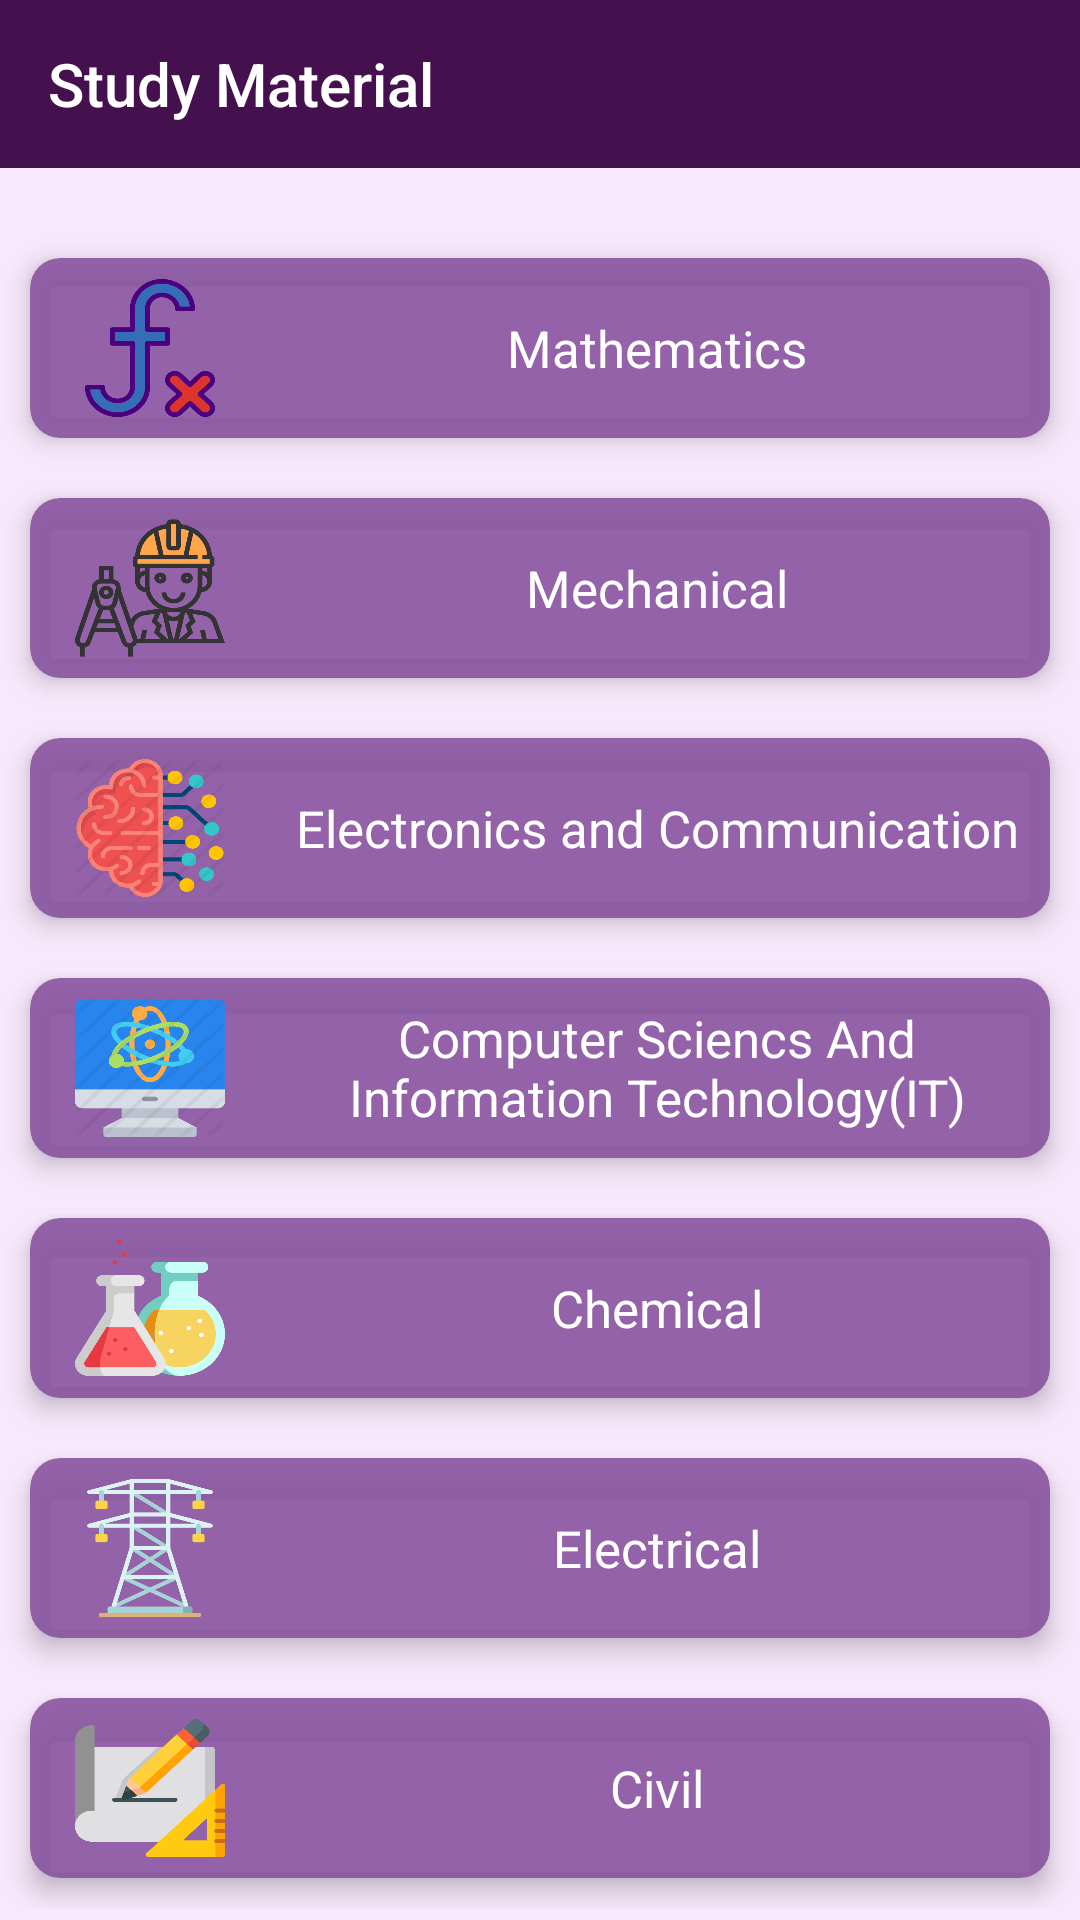

Named icons in this screenshot (1080px×1920px) and their bounding boxes, (x1, y1, x2, y2):
architecture: (75, 1719, 225, 1857)
csandit: (75, 999, 225, 1137)
eletrical: (87, 1479, 213, 1617)
engineer: (75, 519, 225, 657)
mathamatics: (85, 279, 215, 417)
